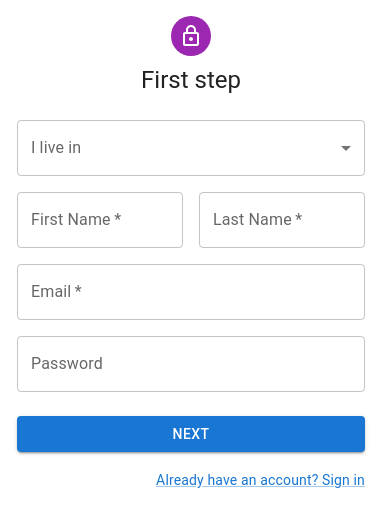
Sign up › renders second step
This screenshot has width=383, height=505.
Type "Marina" into the field labelled "First Name *". click: [100, 220]
box: [17,192,183,248]
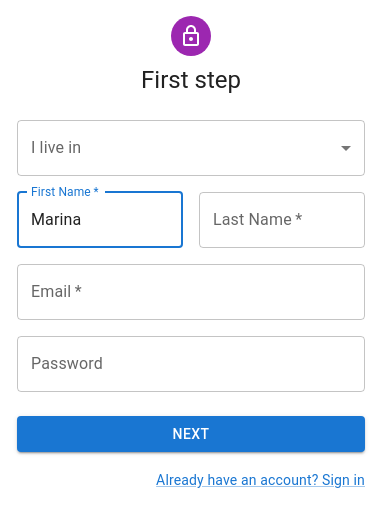
Type "Pechenkina" into the field labelled "Last Name *". click: [282, 220]
box: [199,192,365,248]
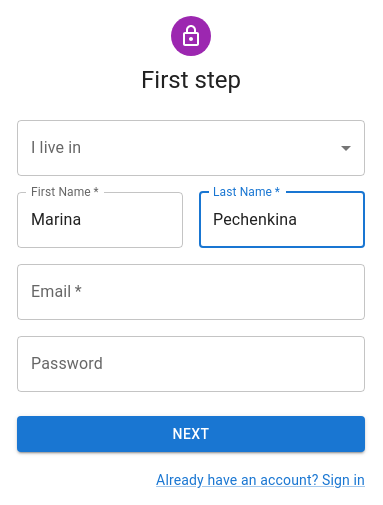
Type "test@gmail.com" into the field labelled "Email *". click: [191, 292]
box: [17,264,365,320]
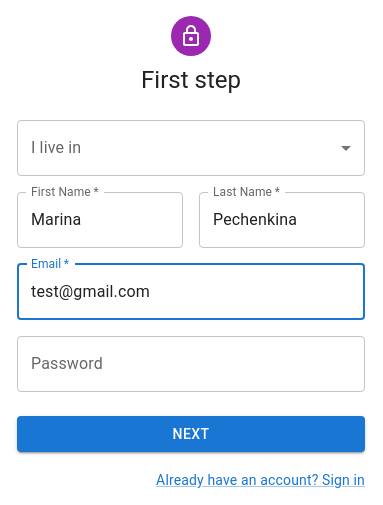
Click the button "Next". click: [191, 434]
box: [17,416,365,452]
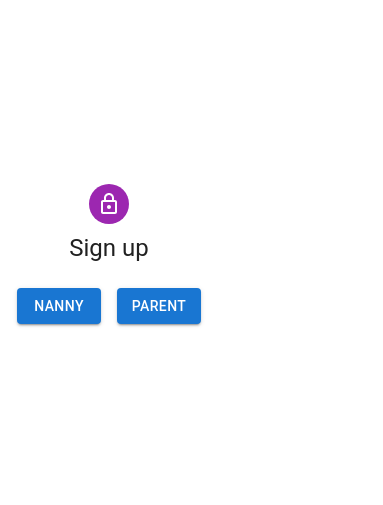
Now the button "Parent" is shown, box [117,288,201,324]
Now the button "Nanny" is shown, box [17,288,101,324]
